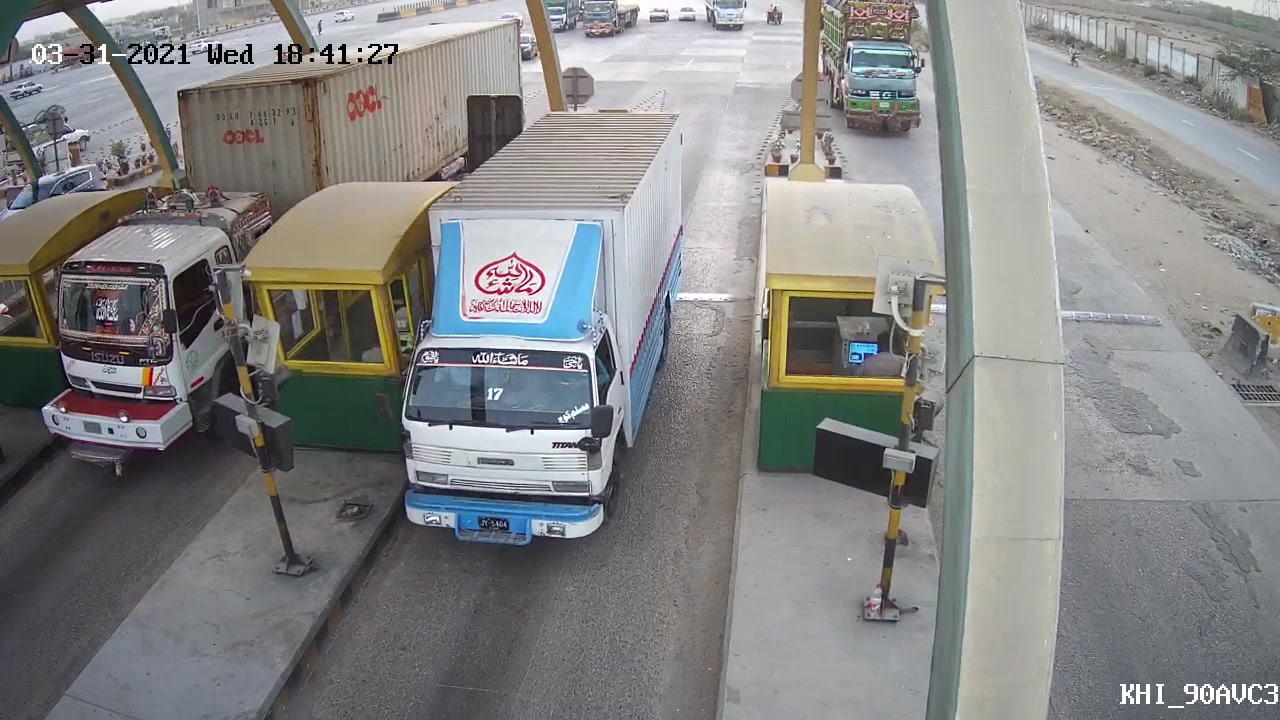F6: (383, 108, 699, 558)
